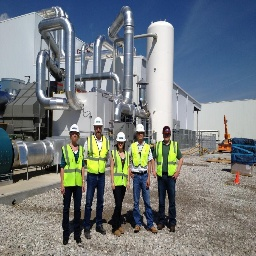helmet: (134, 123, 147, 137), (69, 124, 83, 136), (115, 131, 127, 145), (92, 117, 105, 128)
no-helmet: (161, 125, 172, 136)
person: (60, 124, 86, 245), (83, 116, 108, 237), (155, 124, 182, 235), (132, 123, 154, 234), (110, 129, 130, 238)
vest: (60, 144, 86, 189), (85, 135, 109, 175), (156, 141, 179, 177), (111, 150, 130, 189), (129, 143, 153, 172)
